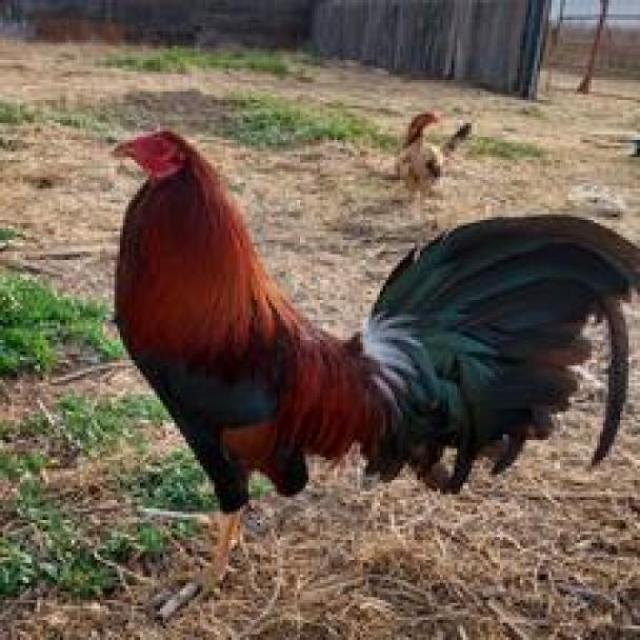Chicken: (83, 113, 638, 538)
